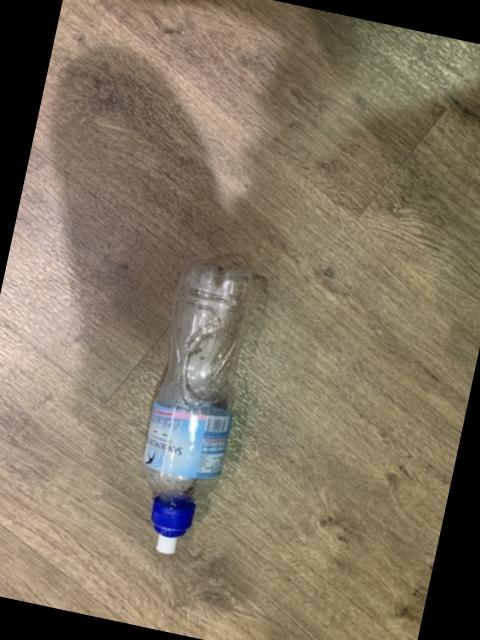plastic: (145, 265, 253, 555)
